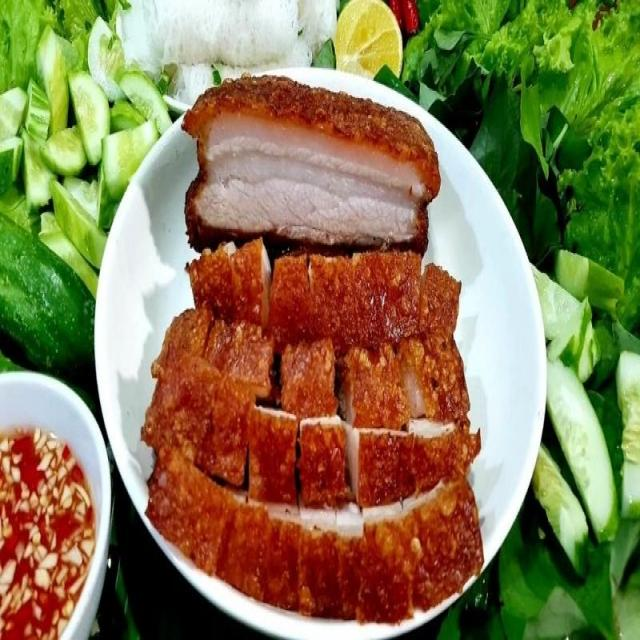thit chien: (146, 449, 482, 620), (143, 360, 478, 508), (183, 77, 439, 247), (151, 304, 468, 430), (187, 239, 459, 348)
